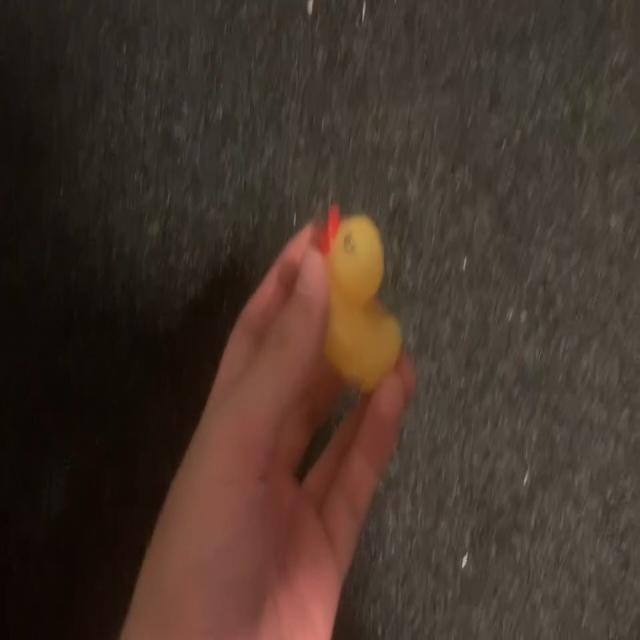rubber-duck: (319, 205, 400, 388)
